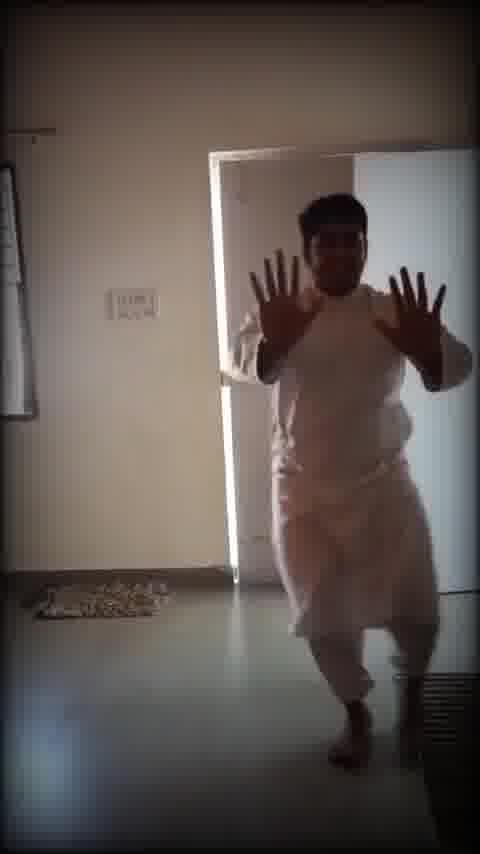duck: (229, 195, 456, 767)
